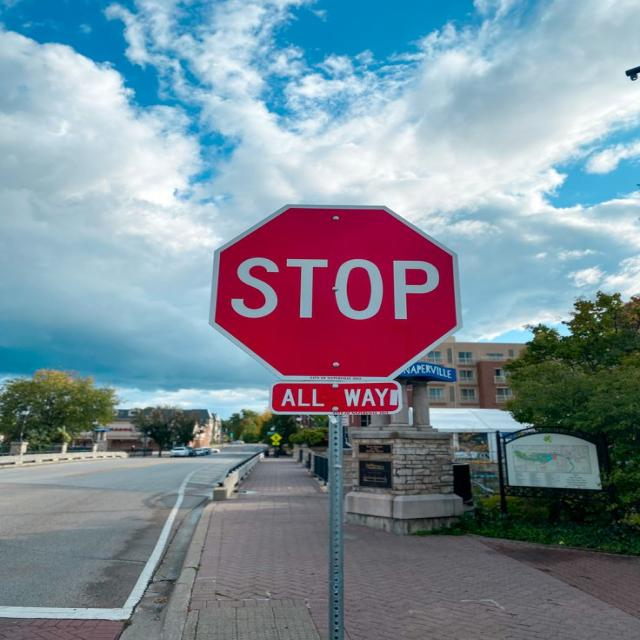stop-sign: (224, 167, 507, 368)
